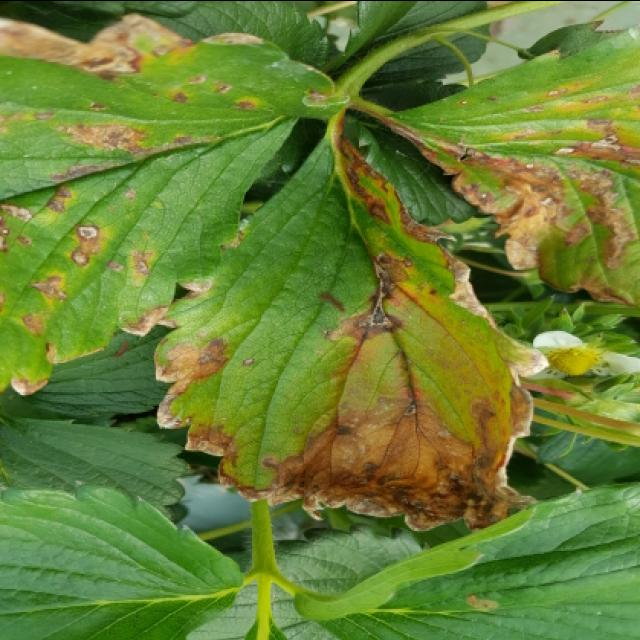Angular Leafspot: (152, 110, 549, 533), (0, 9, 352, 396), (350, 23, 638, 305)
